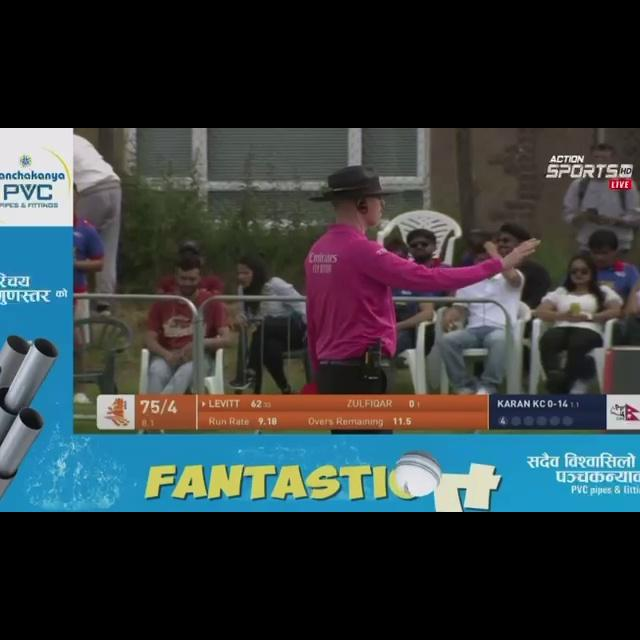umpire: (264, 156, 549, 393)
